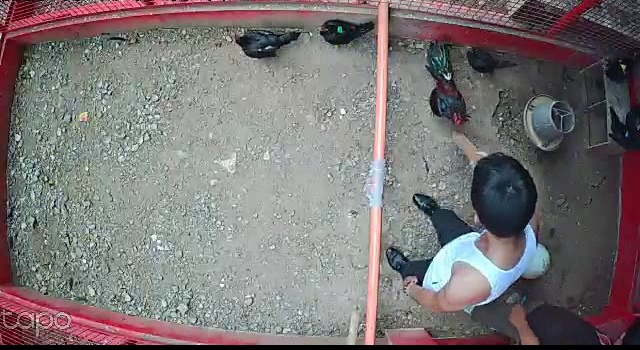Chicken: (230, 20, 302, 64), (604, 101, 640, 159), (463, 42, 521, 77), (318, 19, 375, 50)
Drinker: (517, 240, 552, 281)
Feeder: (521, 91, 581, 154)
Rooster: (424, 42, 471, 134)
Saddle_Color_Blue: (625, 130, 630, 137)
Saddle_Color_Yellow: (619, 60, 629, 75)
